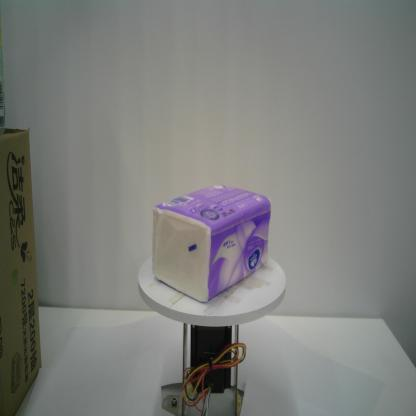Tissue: (150, 182, 272, 304)
